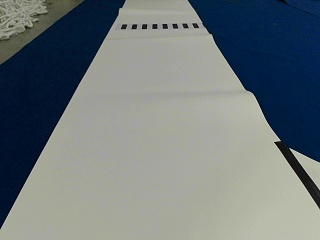crosswalk: (121, 22, 199, 29)
